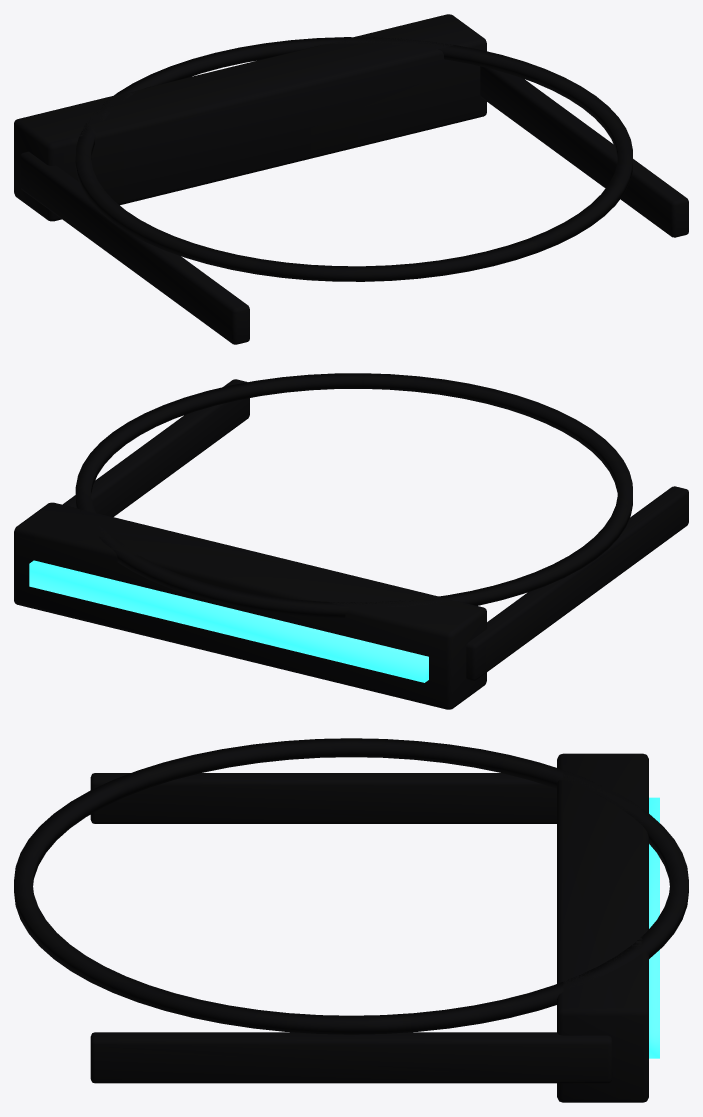
Rendered from head_visor.glb.
The picture shows the model from 3 angles, top to bottom: view 1: azimuth 30°, elevation 25°; view 2: azimuth 150°, elevation 25°; view 3: azimuth 270°, elevation 25°; orthographic projection. The views are drawn at different scales.
Visible parts, largest first — view 1: Cube, Cylinder, Cube.002, Cube.003; view 2: Cube, Cylinder, Cube.001, Cube.002, Cube.003; view 3: Cylinder, Cube, Cube.003, Cube.002, Cube.001.
Boxes of the visible parts, left/top/right/bottom form: Cube: left=14, top=14, right=486, bottom=221; Cylinder: left=75, top=37, right=632, bottom=281; Cube.002: left=20, top=151, right=249, bottom=344; Cube.003: left=480, top=66, right=688, bottom=237; Cube: left=14, top=502, right=486, bottom=709; Cylinder: left=75, top=373, right=632, bottom=617; Cube.001: left=29, top=560, right=428, bottom=682; Cube.002: left=466, top=486, right=688, bottom=680; Cube.003: left=63, top=379, right=249, bottom=516; Cylinder: left=14, top=738, right=688, bottom=1034; Cube: left=557, top=753, right=648, bottom=1102; Cube.003: left=90, top=1032, right=612, bottom=1083; Cube.002: left=90, top=773, right=556, bottom=823; Cube.001: left=649, top=797, right=659, bottom=1058.
Size of the model in its own units: 2.2 by 0.34 by 2.2.
